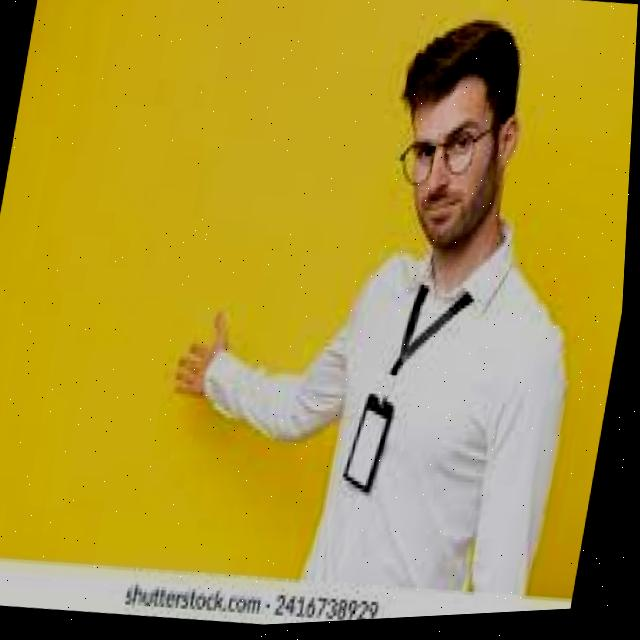id_card: (341, 274, 467, 508)
